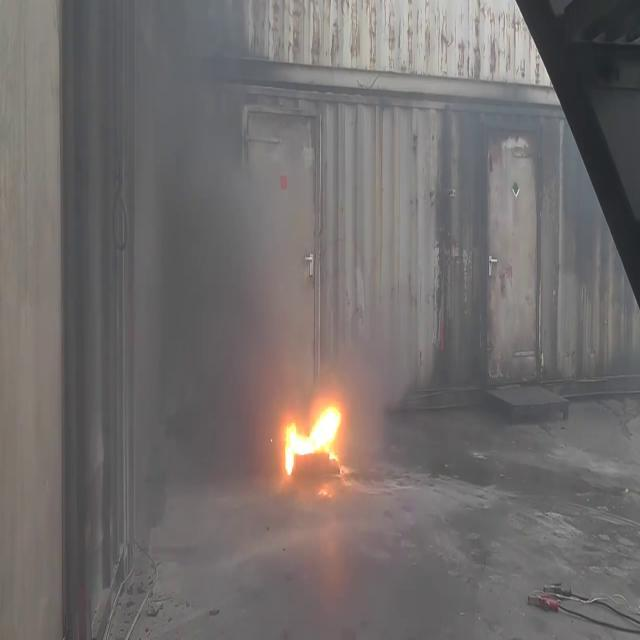Fire: (281, 390, 345, 478)
Smoke: (117, 0, 329, 356)
